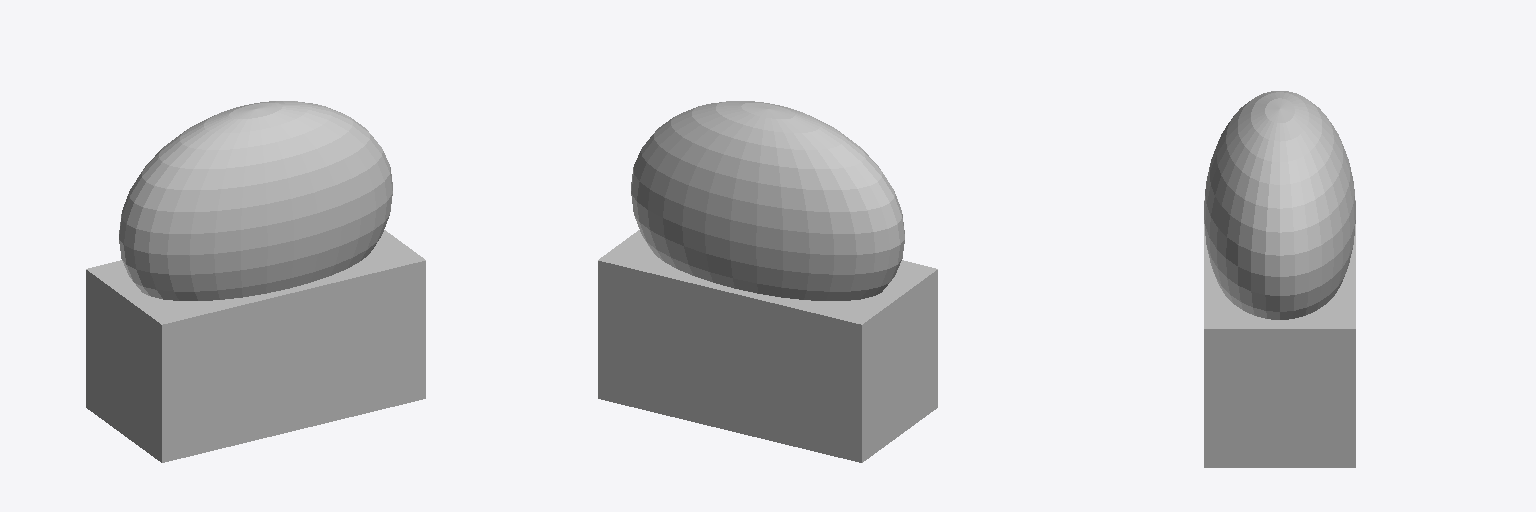
File: MediumBush.obj
The picture shows the model from 3 angles: view 1: azimuth 30°, elevation 25°; view 2: azimuth 150°, elevation 25°; view 3: azimuth 270°, elevation 25°; orthographic projection.
Visible parts, largest first — view 1: Cube; view 2: Cube; view 3: Cube.
Boxes of the visible parts, x1,y1,x2,y2 form: Cube: [86, 101, 425, 462]; Cube: [598, 101, 937, 462]; Cube: [1204, 91, 1355, 467].
Bounding box in the file's own units: 4 × 4.25 × 2.